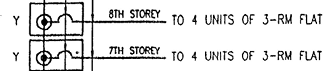Single Phase Tap-Off Unit: (23, 37, 88, 71), (26, 3, 87, 39)
